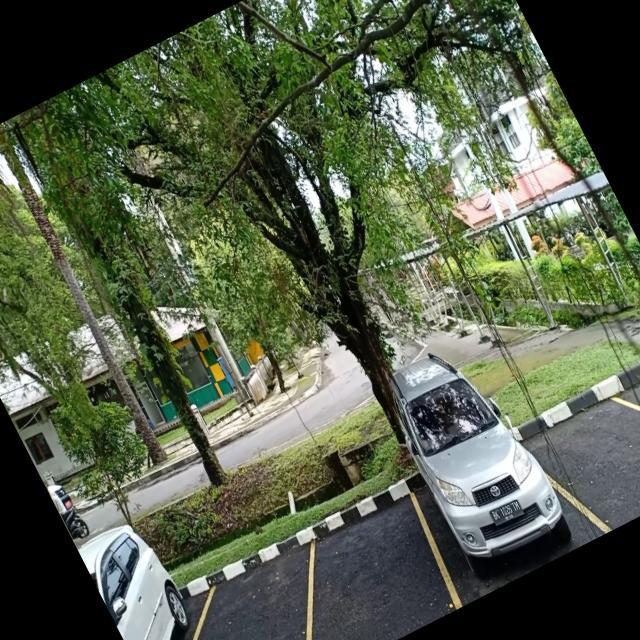empty: (262, 472, 465, 640), (153, 531, 345, 640), (527, 362, 640, 541)
occupied: (391, 404, 590, 606), (105, 568, 230, 640)
